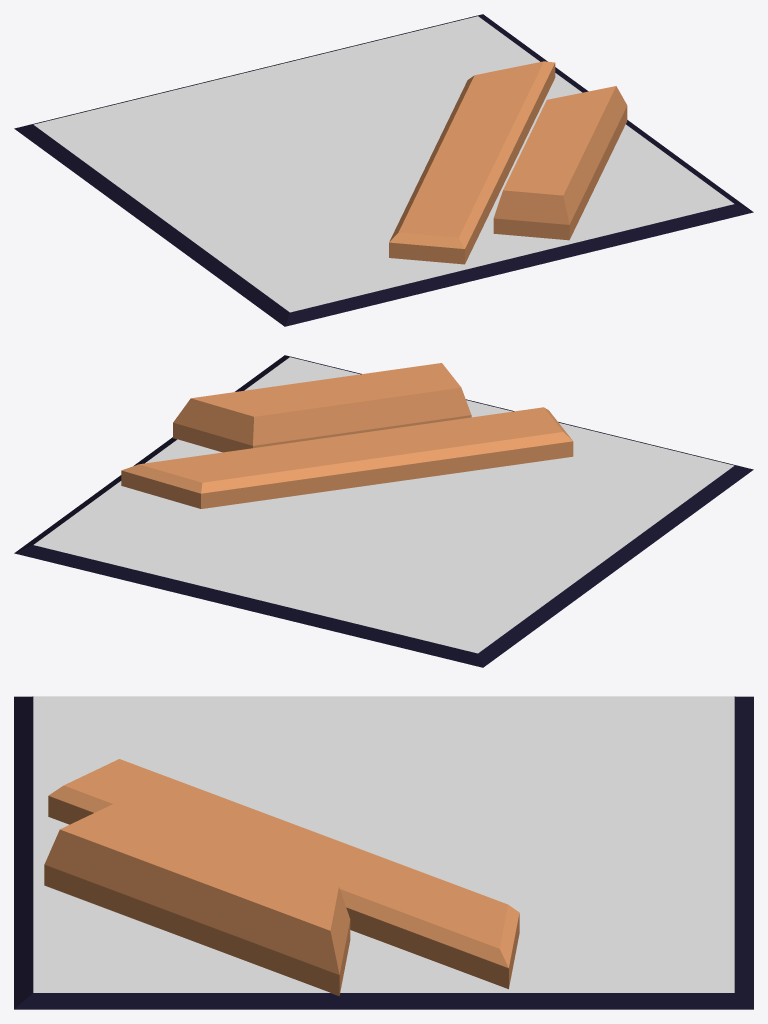
The model's file is floor_withplanks.fbx.
3 views of the same model, one above another, from view 1: azimuth 30°, elevation 25°; view 2: azimuth 150°, elevation 25°; view 3: azimuth 270°, elevation 25° (orthographic). The views are drawn at different scales.
Parts seen in each view (by area): view 1: floor_with_planks; view 2: floor_with_planks; view 3: floor_with_planks.
Part boxes in pixels (x1,y1,x2,y2): floor_with_planks: (14, 14, 753, 326); floor_with_planks: (14, 355, 753, 667); floor_with_planks: (14, 696, 753, 1009).
Bounding box in the file's own units: 200 × 19.12 × 200.
